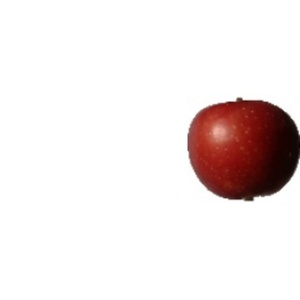maçã braeburn: (186, 98, 300, 201)
